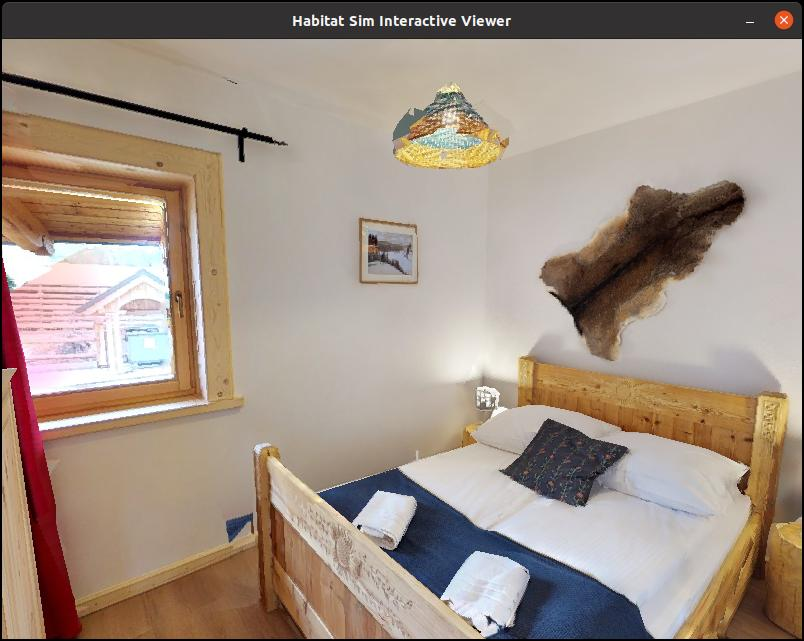bed: (234, 350, 795, 641)
